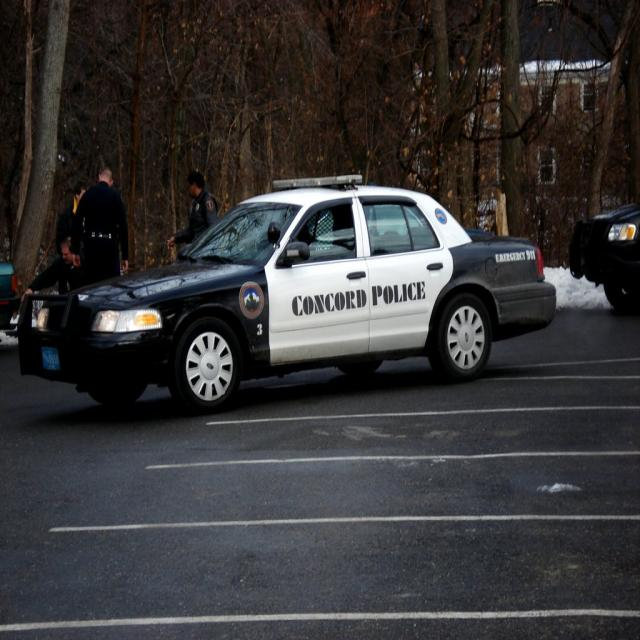car: (17, 171, 556, 415)
